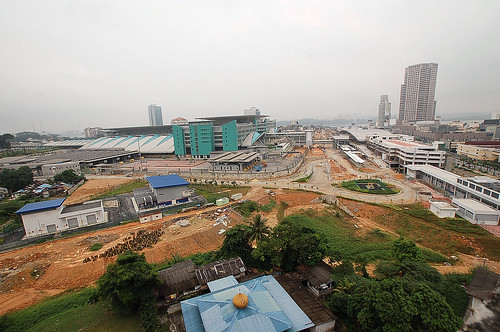building: (9, 174, 195, 249), (172, 252, 326, 332), (81, 111, 282, 164), (354, 119, 446, 173), (444, 164, 500, 227), (398, 59, 441, 124), (451, 126, 498, 169), (375, 93, 393, 126), (144, 105, 168, 128)
sky: (2, 1, 500, 118)
tree: (340, 272, 466, 332), (98, 254, 166, 321), (237, 221, 327, 264)
